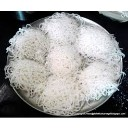idiyappam: (78, 21, 120, 60), (41, 76, 81, 115), (80, 61, 119, 99), (8, 25, 48, 62), (44, 42, 83, 79), (2, 57, 44, 90), (43, 14, 80, 44)
